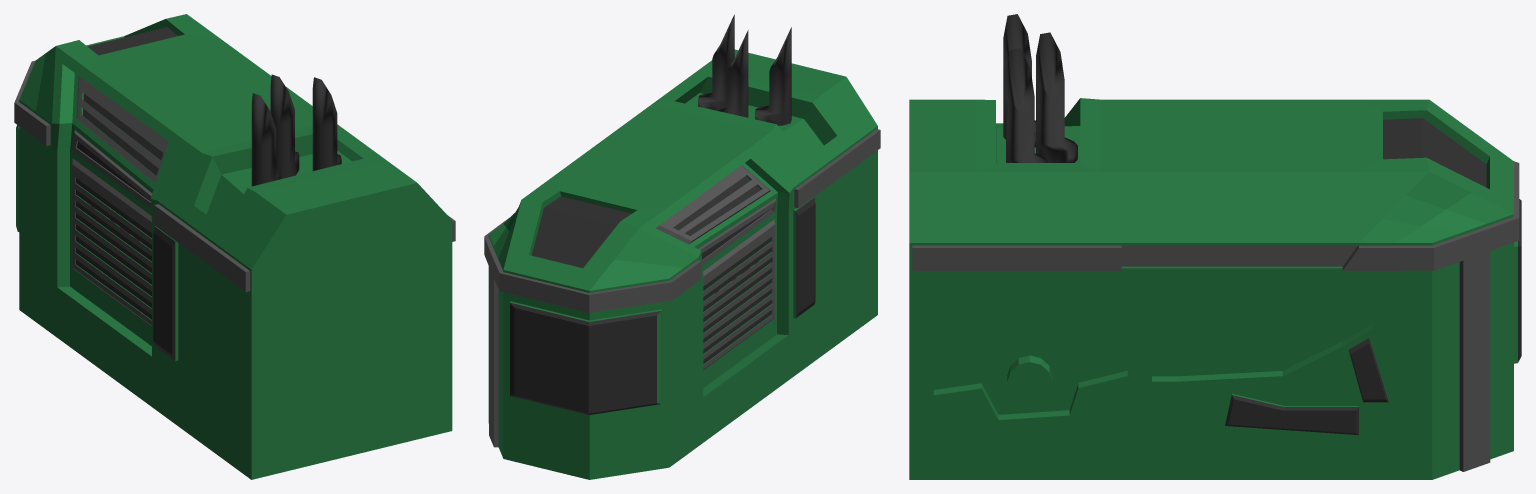
The model's file is Machine.glb.
3 renders of one model, left to right at view 1: azimuth 30°, elevation 25°; view 2: azimuth 150°, elevation 25°; view 3: azimuth 270°, elevation 25°, orthographic. The views are drawn at different scales.
Visible parts, largest first — view 1: Cube; view 2: Cube; view 3: Cube.
Boxes of the visible parts, <box> form: Cube: <box>14,14,455,479</box>; Cube: <box>484,14,880,479</box>; Cube: <box>909,14,1521,479</box>.
Size of the model in its own units: 2.09 by 3.23 by 4.68.
